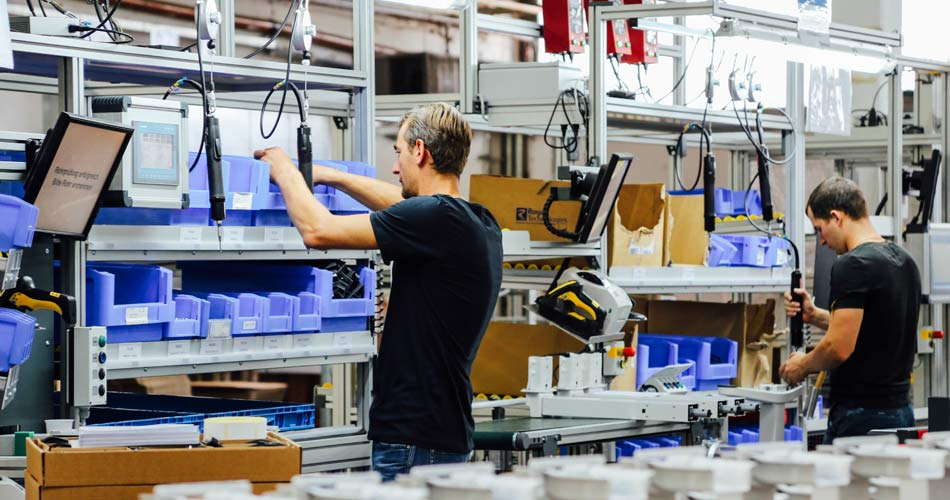person: (253, 101, 505, 481), (778, 172, 924, 439)
